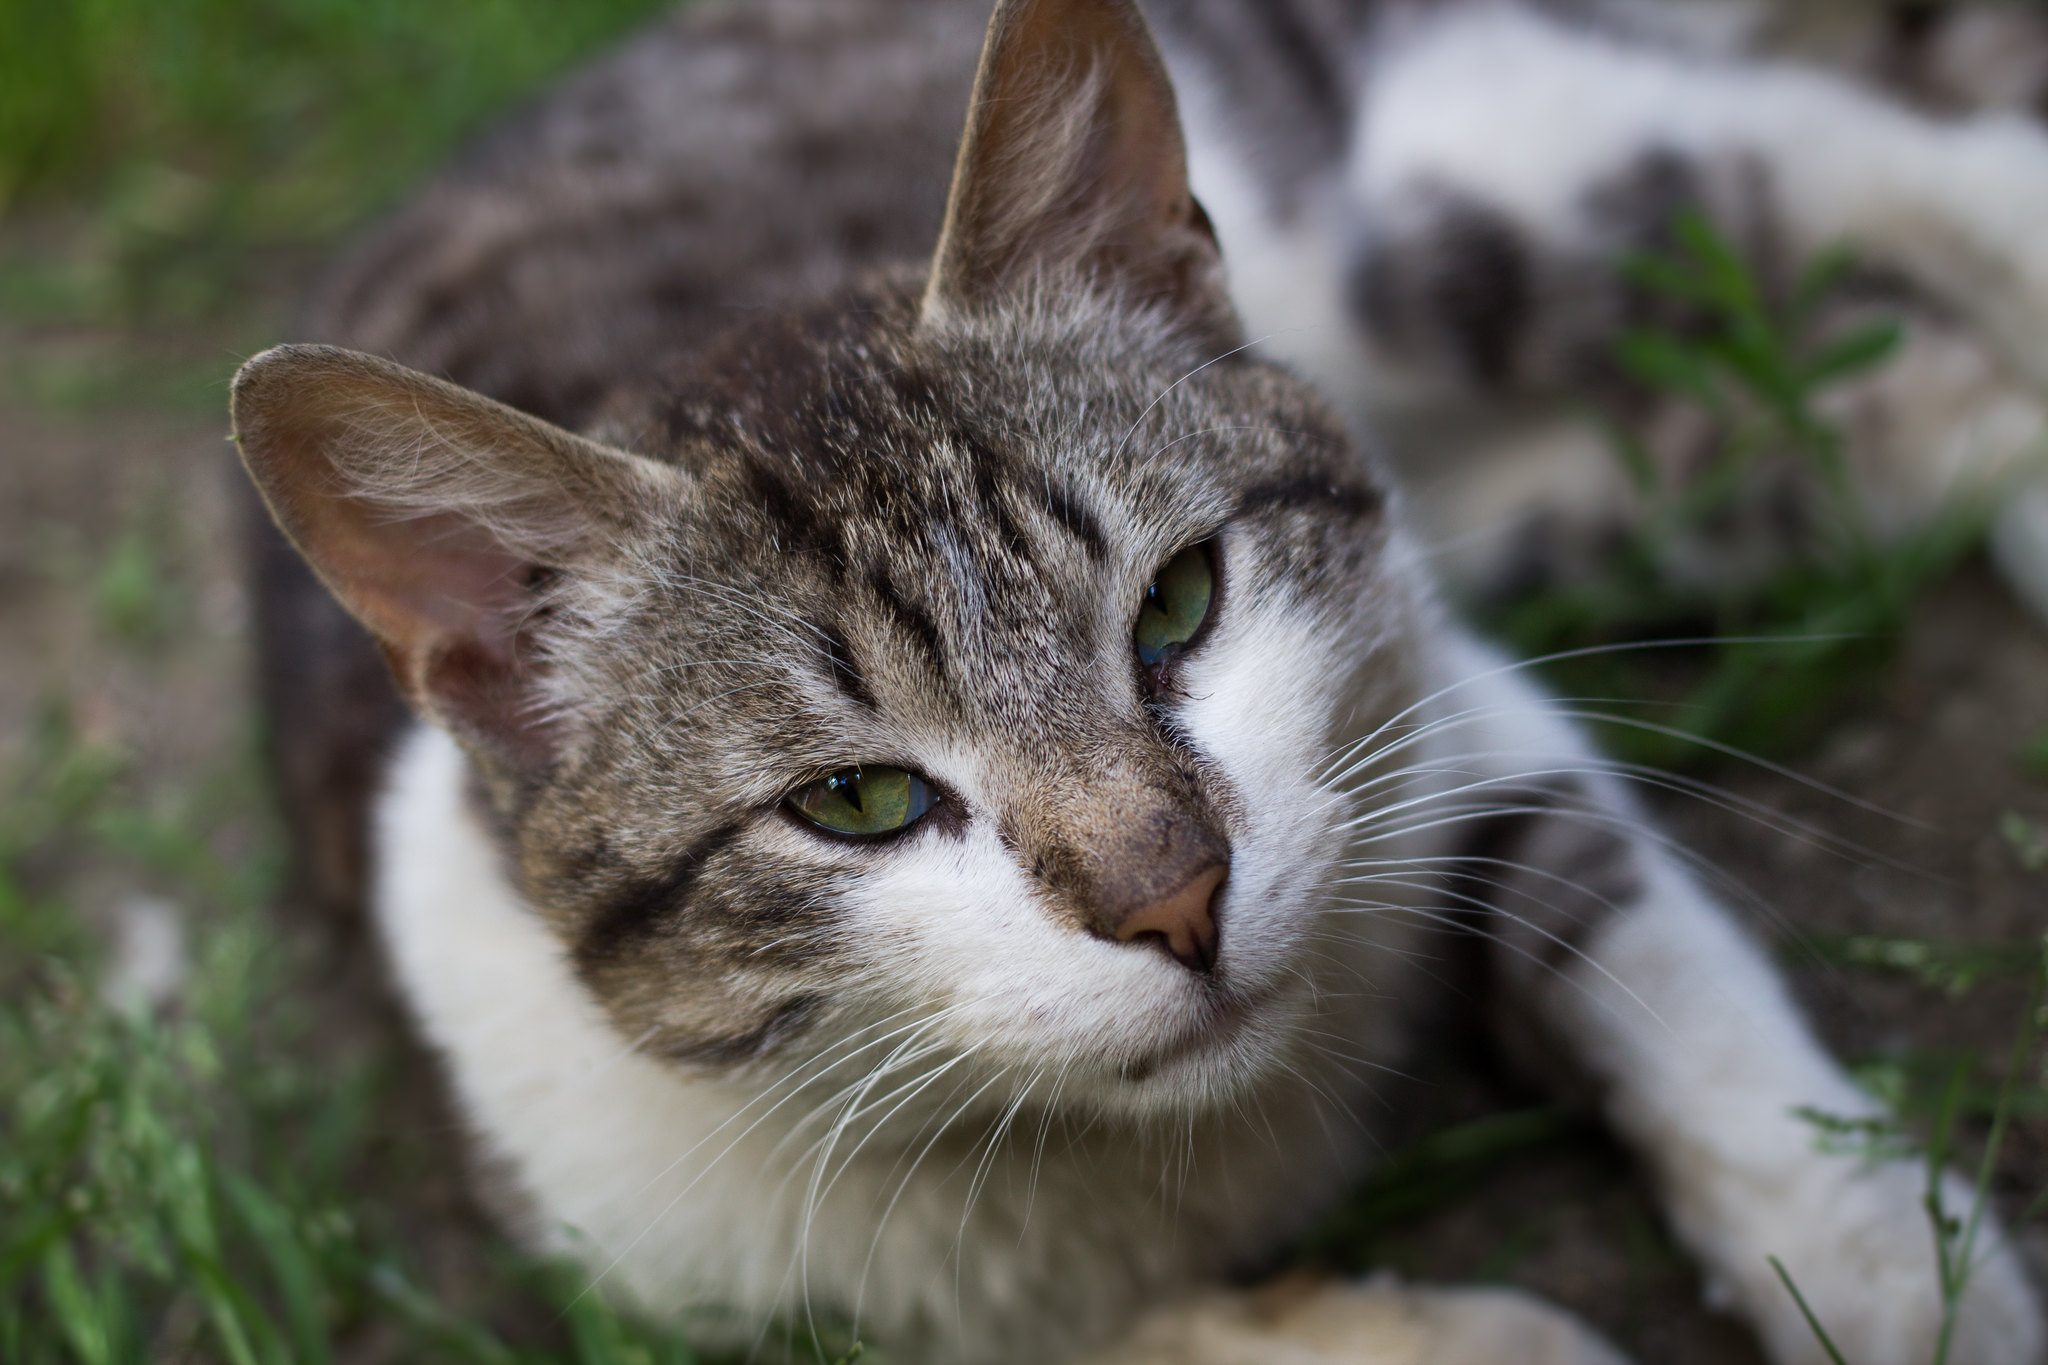cat: (201, 18, 2037, 1365)
